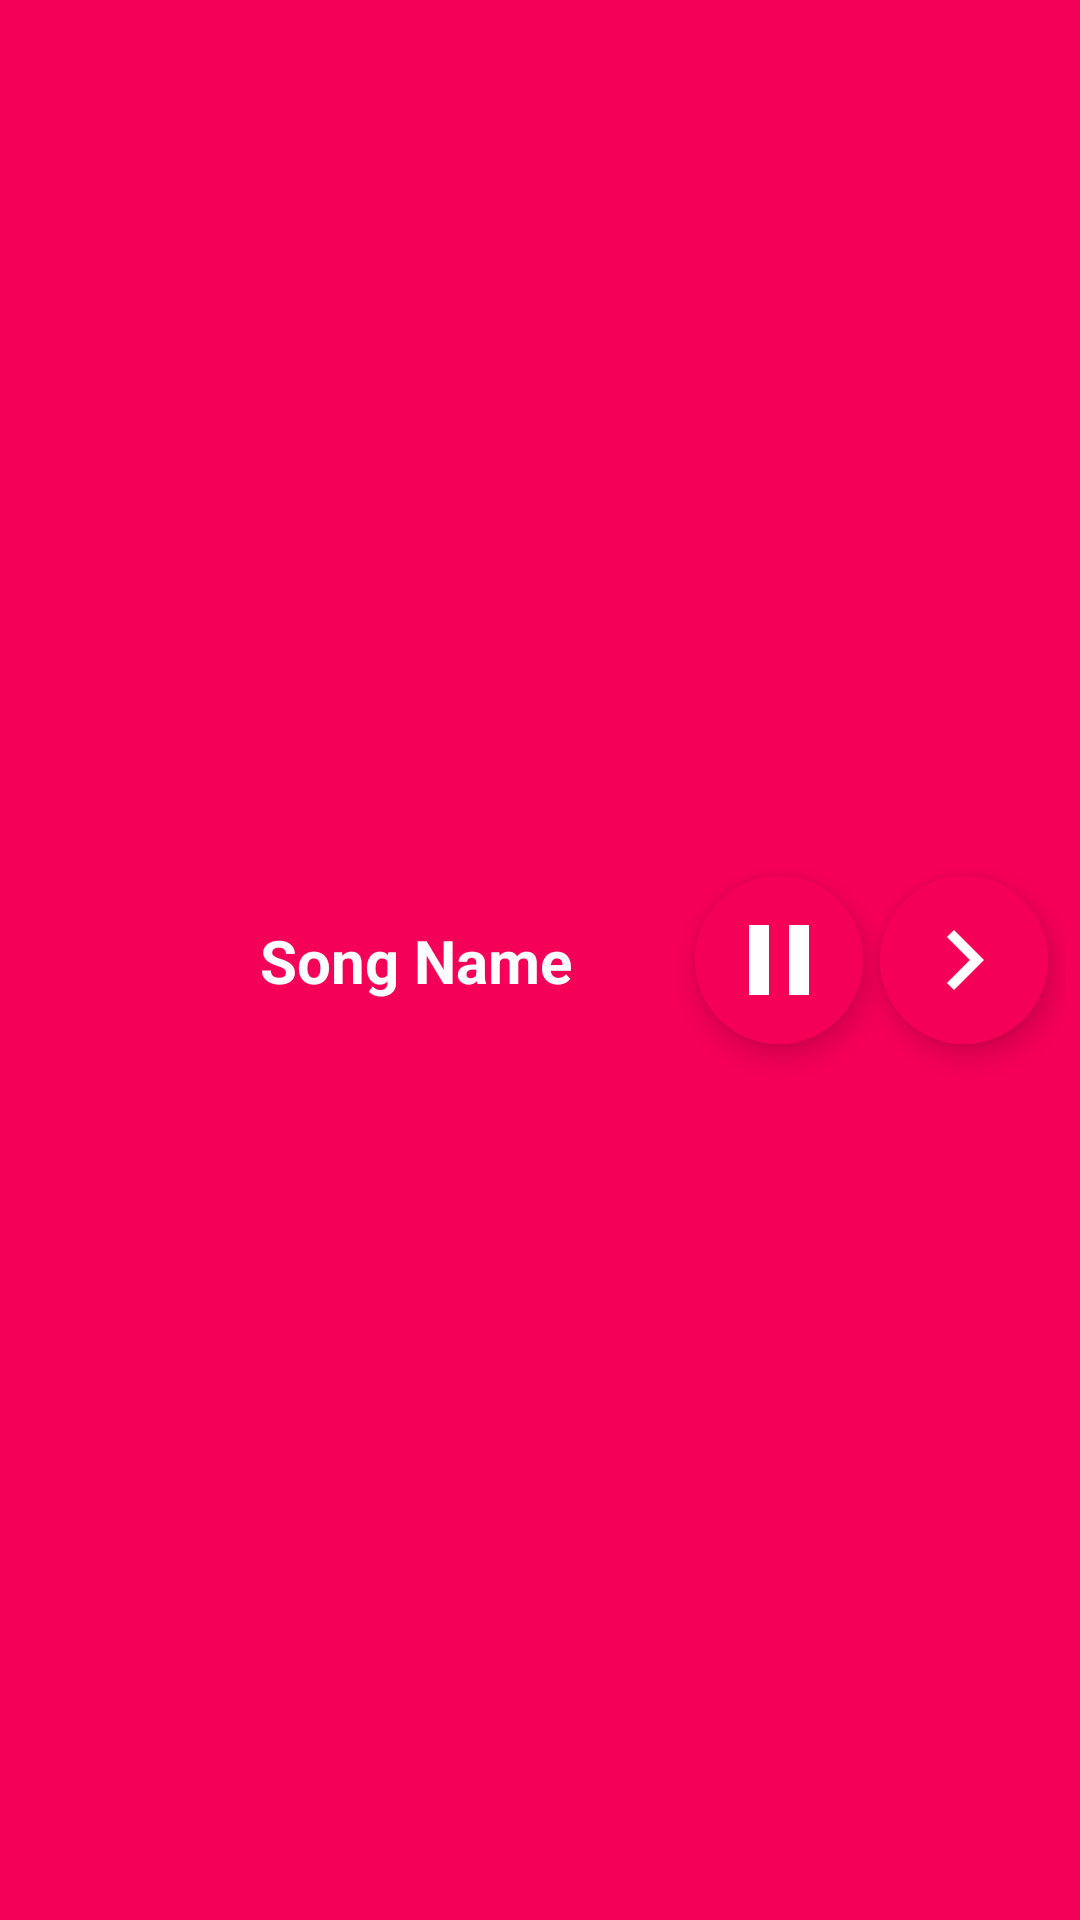

Named icons in this screenshot (1080 × 1920) and their bounding boxes, box=[x1, y1, x2, y2]:
next: box=[947, 930, 984, 990]
